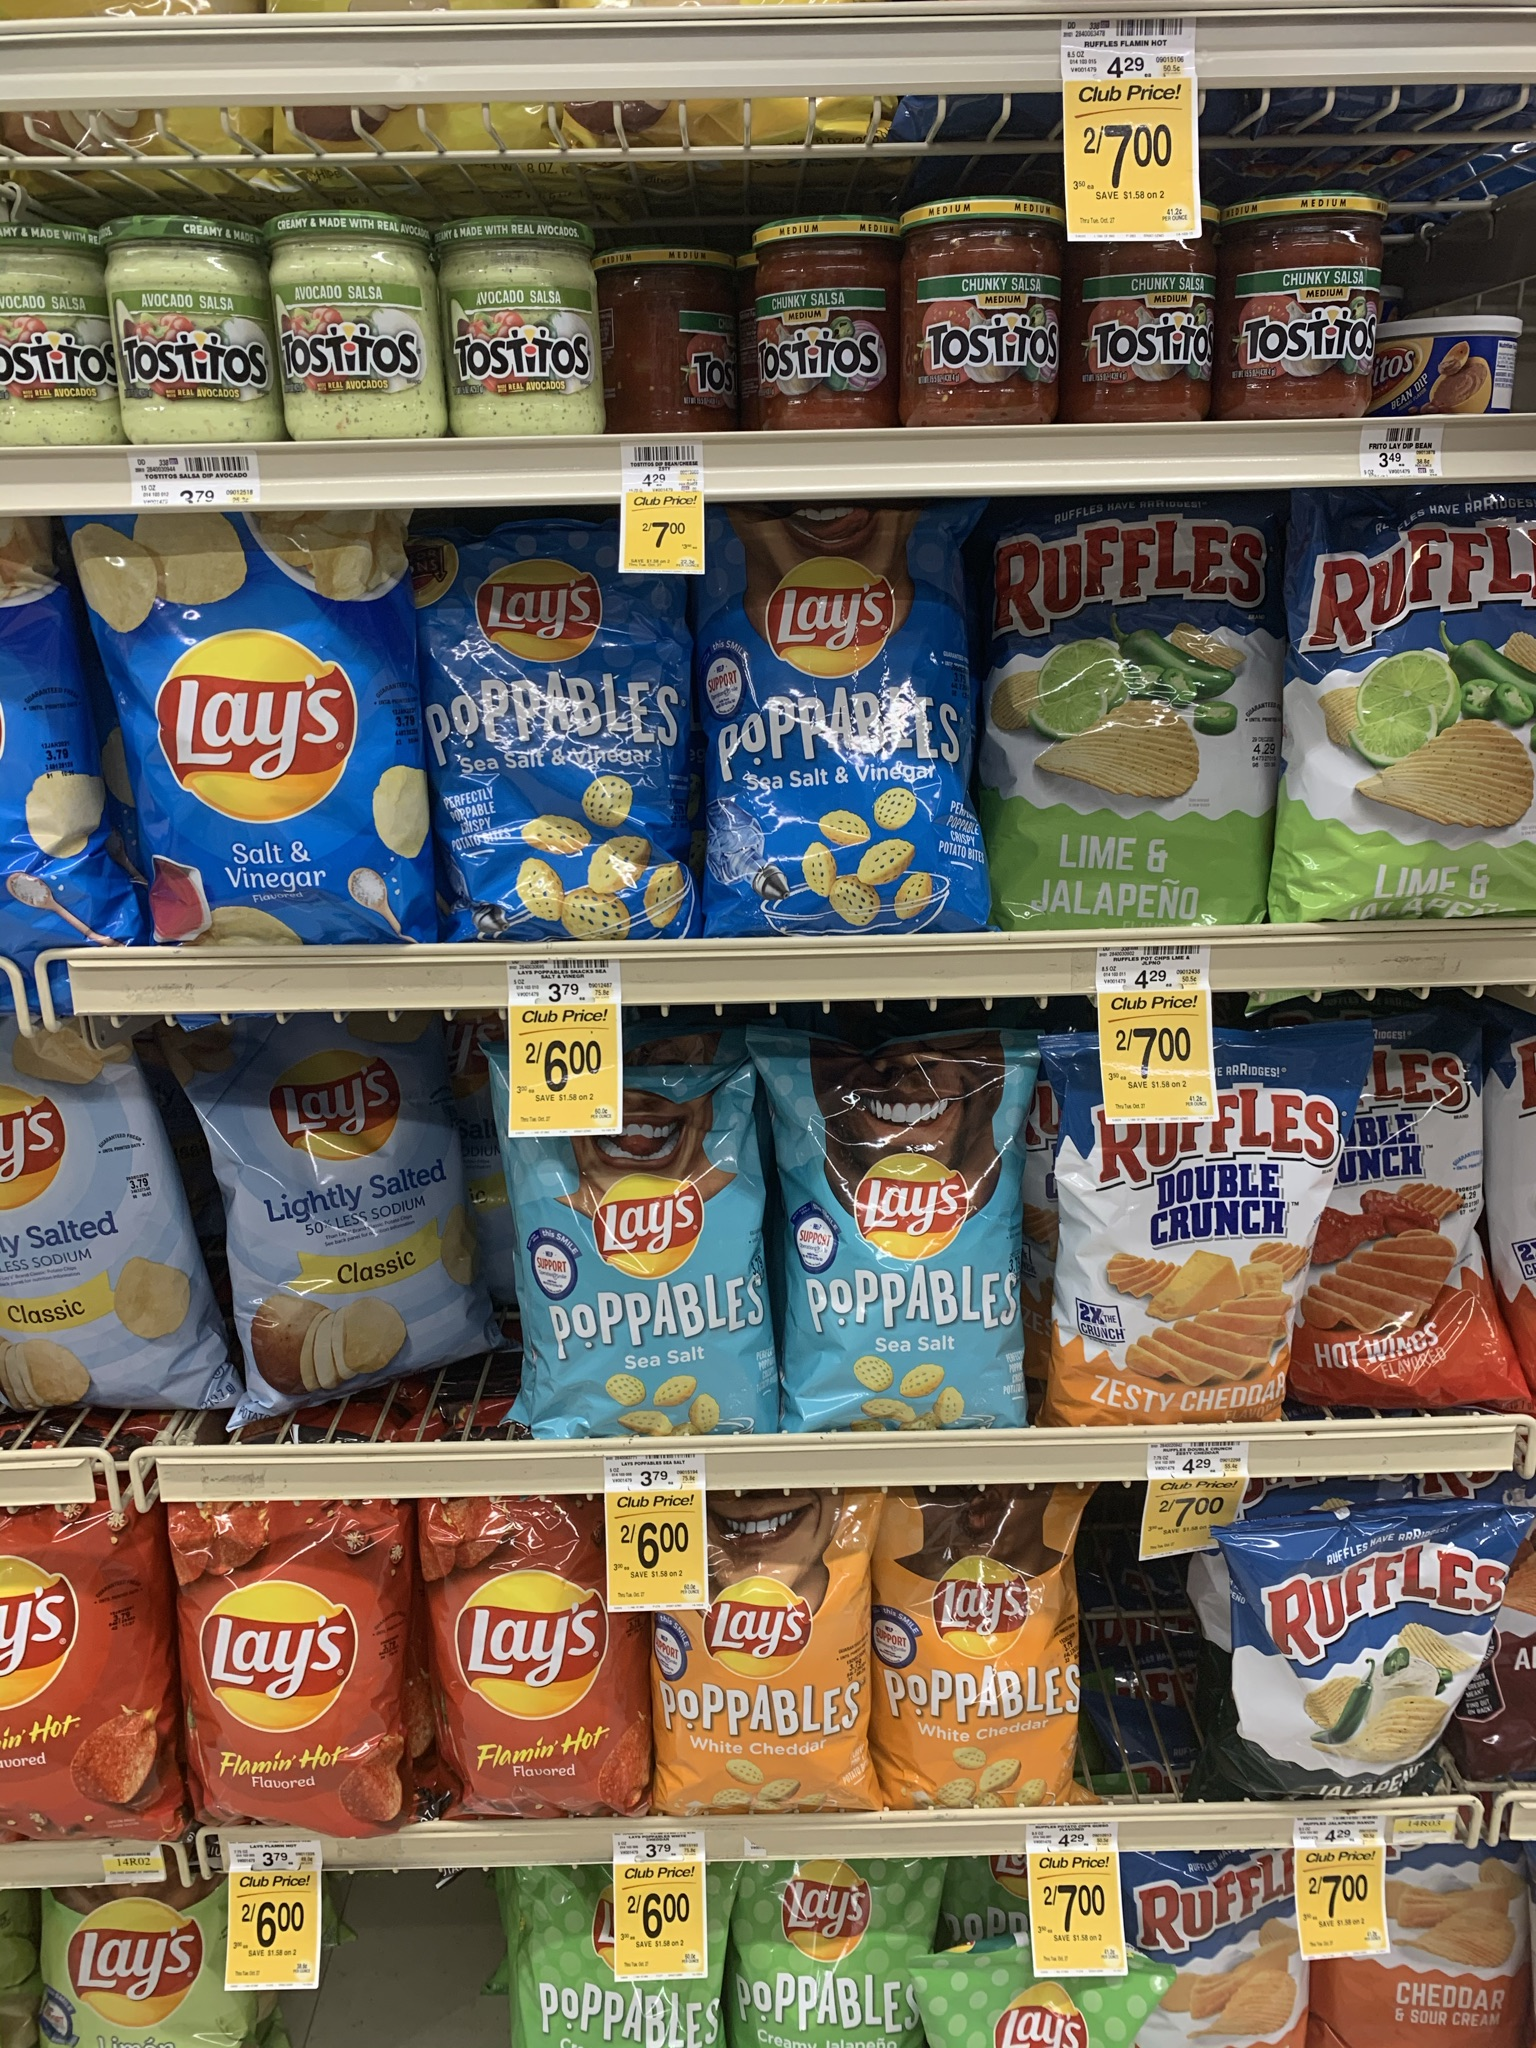chip: (81, 521, 426, 953), (458, 1022, 770, 1442), (1012, 485, 1294, 939), (715, 522, 983, 934), (437, 521, 687, 932), (1313, 477, 1536, 921), (760, 1032, 1005, 1421), (1049, 1035, 1299, 1414), (232, 1009, 444, 1401), (202, 1513, 431, 1830), (1263, 1496, 1517, 1780), (887, 1492, 1100, 1822), (1320, 1047, 1488, 1414), (458, 1505, 639, 1804), (670, 1506, 850, 1801), (6, 1526, 173, 1838), (736, 1875, 954, 2048), (31, 1893, 263, 2048), (492, 1884, 703, 2048), (1126, 1859, 1309, 2048)
